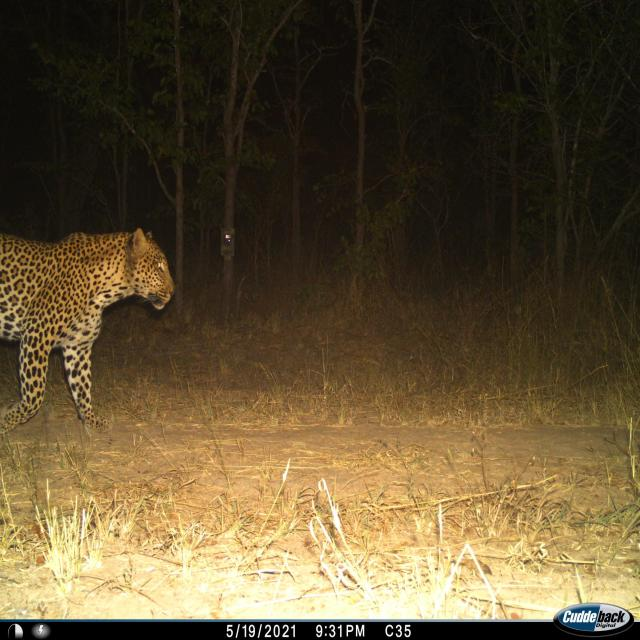Leopard: (0, 209, 180, 445)
